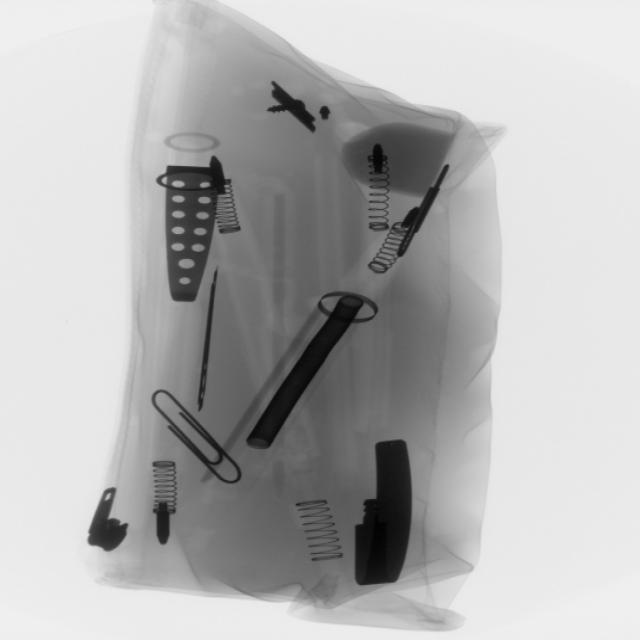SHURIKEN: (188, 261, 230, 413)
